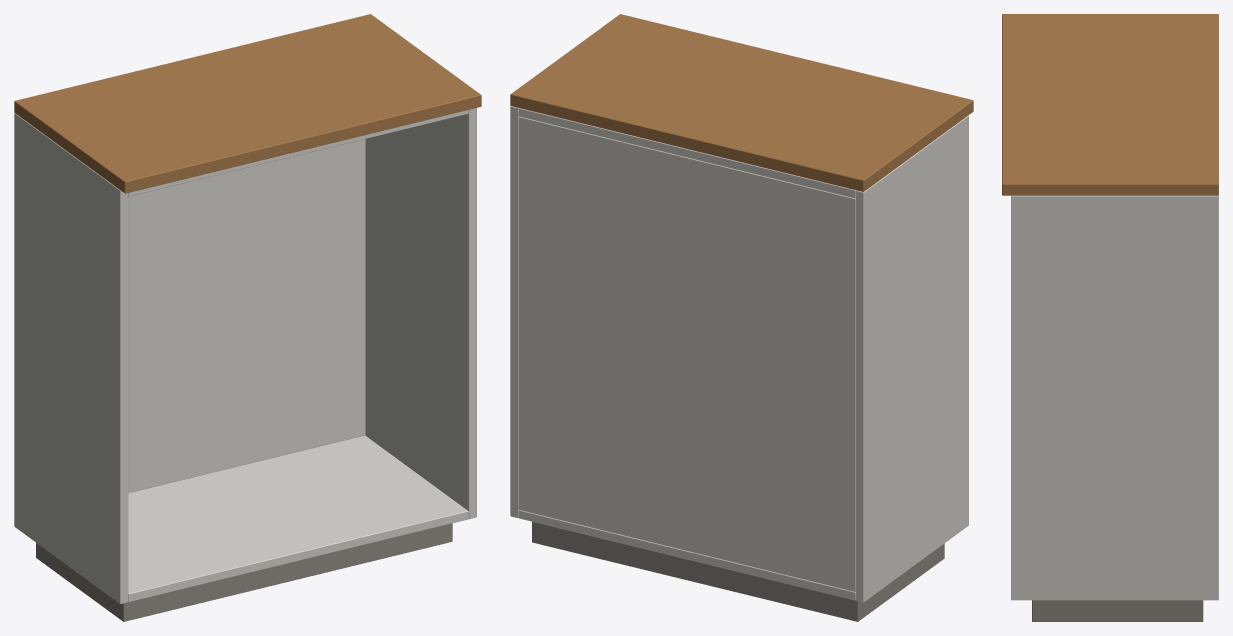
File: chest_three_drawers_body.glb
3 renders of one model, left to right at view 1: azimuth 30°, elevation 25°; view 2: azimuth 150°, elevation 25°; view 3: azimuth 270°, elevation 25°, orthographic. The views are drawn at different scales.
Visible parts, largest first — view 1: chest_three_drawers_body.001; view 2: chest_three_drawers_body.001; view 3: chest_three_drawers_body.001.
Boxes of the visible parts, x1,y1,x2,y2 form: chest_three_drawers_body.001: (14,14,481,621); chest_three_drawers_body.001: (510,14,973,621); chest_three_drawers_body.001: (1002,14,1218,621).
Bounding box in the file's own units: 0.78 × 0.95 × 0.42.
